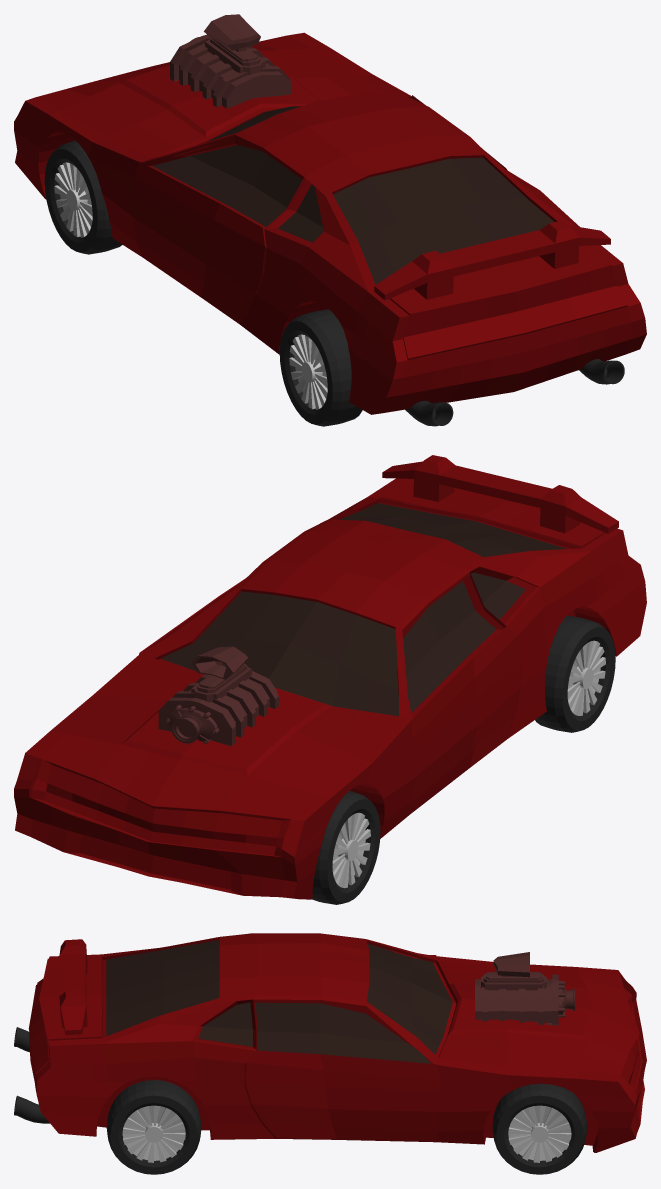
The model's file is bolide.fbx.
The picture shows the model from 3 angles, top to bottom: view 1: azimuth 30°, elevation 25°; view 2: azimuth 150°, elevation 25°; view 3: azimuth 270°, elevation 25°; orthographic projection. The views are drawn at different scales.
Visible parts, largest first — view 1: Cube, Cube.002, Cylinder.007, Cylinder.001, Cylinder.005, Cylinder.004; view 2: Cube, Cube.002, Cylinder.007, Cylinder.001; view 3: Cube, Cylinder.006, Cylinder, Cube.002, Cylinder.004.
Part boxes in pixels (x1,y1,x2,y2): Cube: [14, 32, 646, 414]; Cube.002: [170, 14, 291, 108]; Cylinder.007: [279, 309, 362, 426]; Cylinder.001: [44, 140, 122, 254]; Cylinder.005: [405, 400, 453, 426]; Cylinder.004: [579, 359, 624, 384]; Cube: [14, 455, 646, 899]; Cube.002: [158, 646, 278, 745]; Cylinder.007: [535, 615, 615, 732]; Cylinder.001: [312, 790, 380, 904]; Cube: [28, 933, 646, 1152]; Cylinder.006: [106, 1080, 201, 1174]; Cylinder: [492, 1083, 587, 1174]; Cube.002: [475, 952, 574, 1025]; Cylinder.004: [14, 1095, 49, 1123].
Size of the model in its own units: 357 by 249 by 843.
